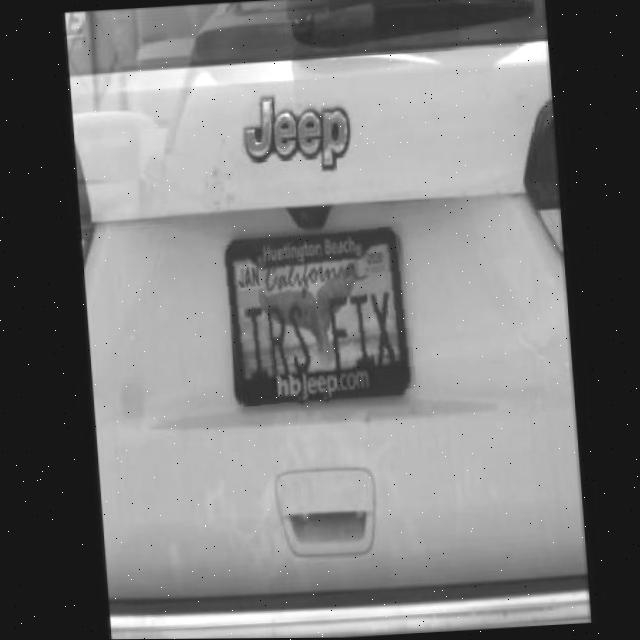LicensePlate: (221, 229, 414, 406)
